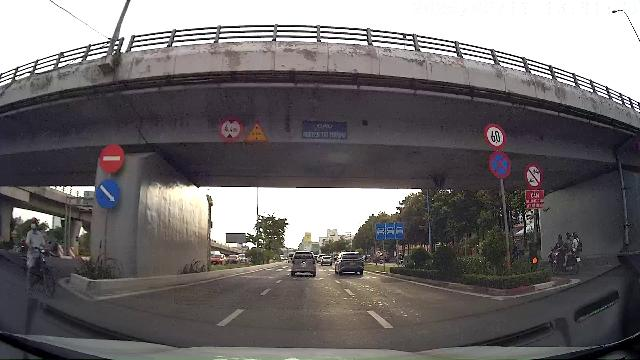102-cam-di-nguoc-chieu: (100, 143, 124, 173)
127-toc-do-toi-da-60: (484, 123, 506, 149)
130-cam-dung-va-do-xe: (488, 150, 512, 178)
302a-huong-phai-di-vong-chuong-ngai-vat-1: (96, 178, 120, 209)
